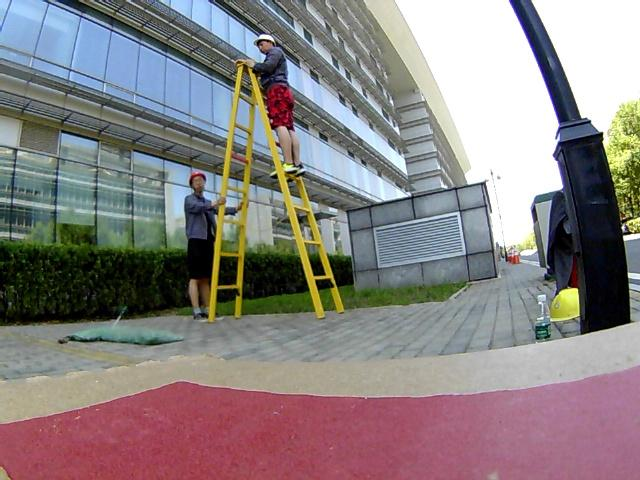未系安全绳的工作人员: (233, 32, 307, 183)
